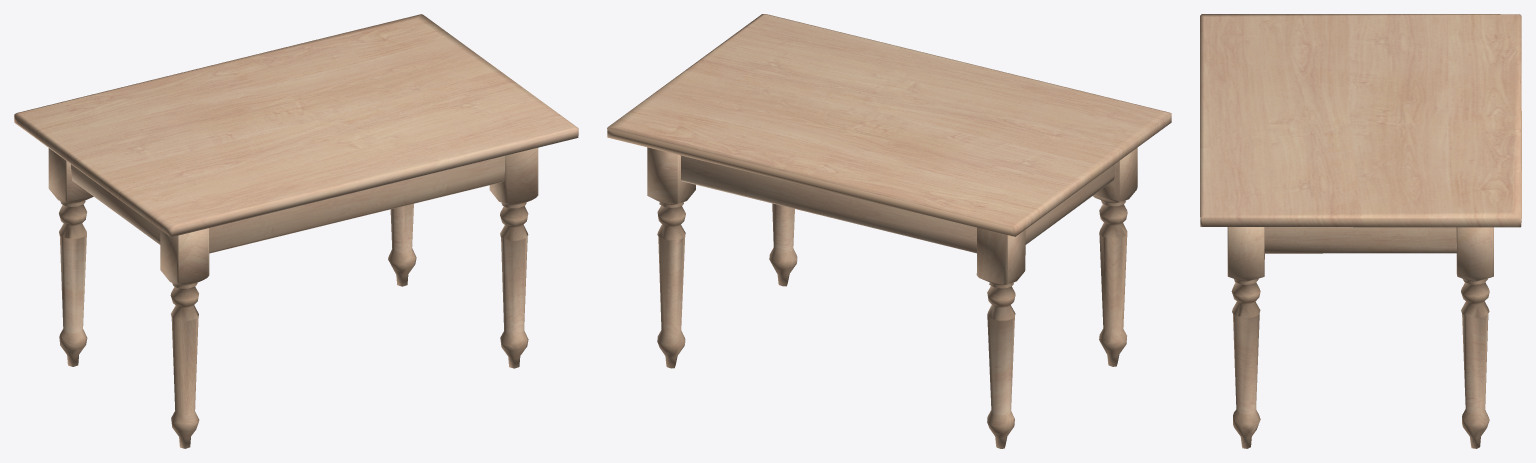
File: tavolo-texture.glb
3 renders of one model, left to right at view 1: azimuth 30°, elevation 25°; view 2: azimuth 150°, elevation 25°; view 3: azimuth 270°, elevation 25°, orthographic. The views are drawn at different scales.
Parts seen in each view (by area): view 1: 10233_Kitchen_Table_v2_max2011_it2; view 2: 10233_Kitchen_Table_v2_max2011_it2; view 3: 10233_Kitchen_Table_v2_max2011_it2.
Part boxes in pixels (x1=…): 10233_Kitchen_Table_v2_max2011_it2: x1=14, y1=14, x2=578, y2=448; 10233_Kitchen_Table_v2_max2011_it2: x1=607, y1=14, x2=1171, y2=448; 10233_Kitchen_Table_v2_max2011_it2: x1=1200, y1=14, x2=1521, y2=448.
Bounding box in the file's own units: 3.99 × 2.28 × 2.65.
2 materials, 1 textured.
